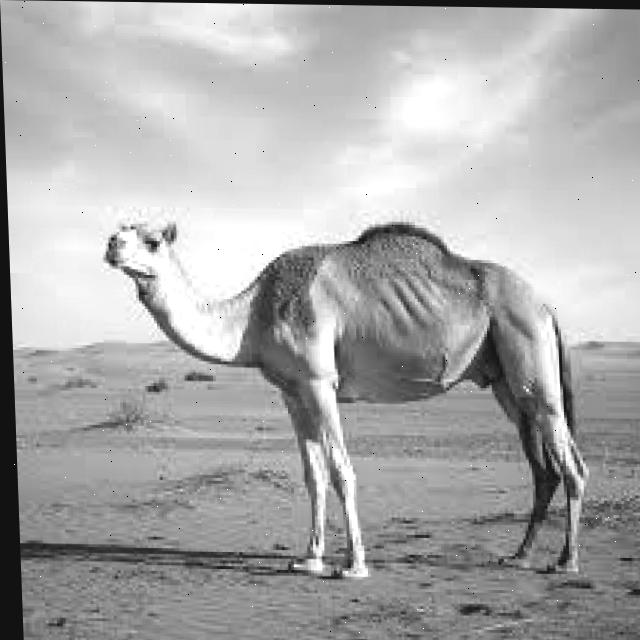Camel: (99, 215, 593, 583)
